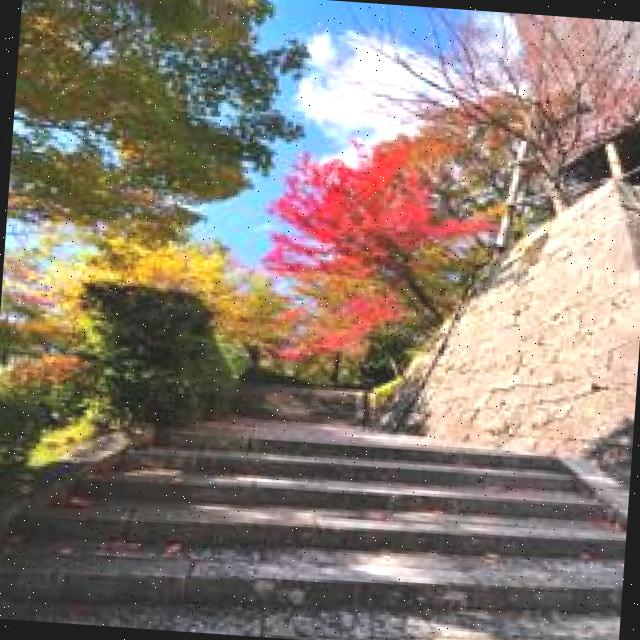stairs: (0, 392, 629, 640)
